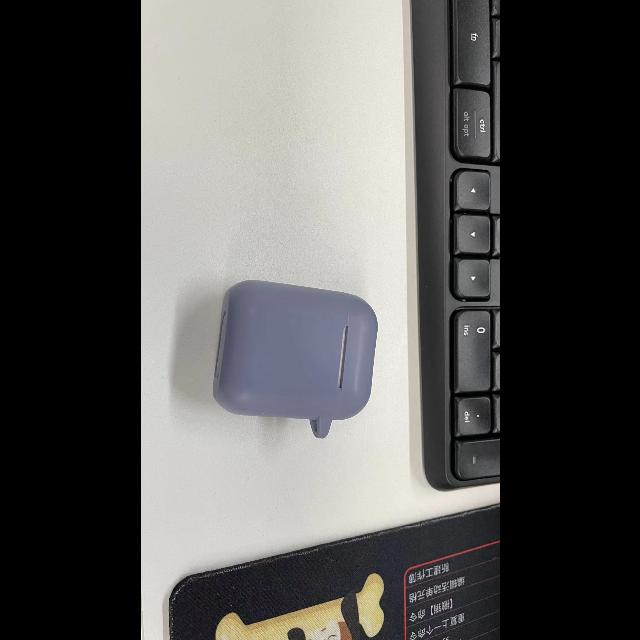airpods: (211, 281, 374, 442)
